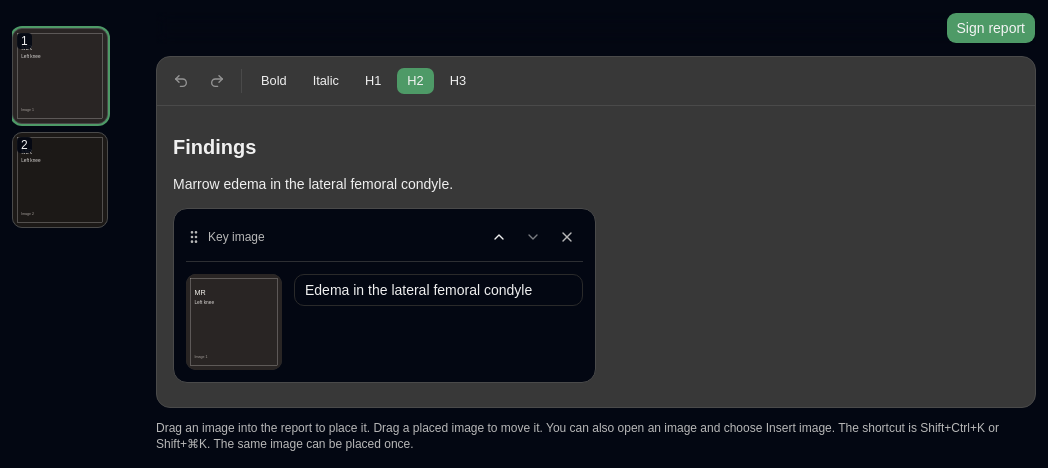
it: keeps a failed save on screen until Retry succeeds
Type " failed" into the field named "Caption". click: coordinates (438, 290)
box: [294,274,583,306]
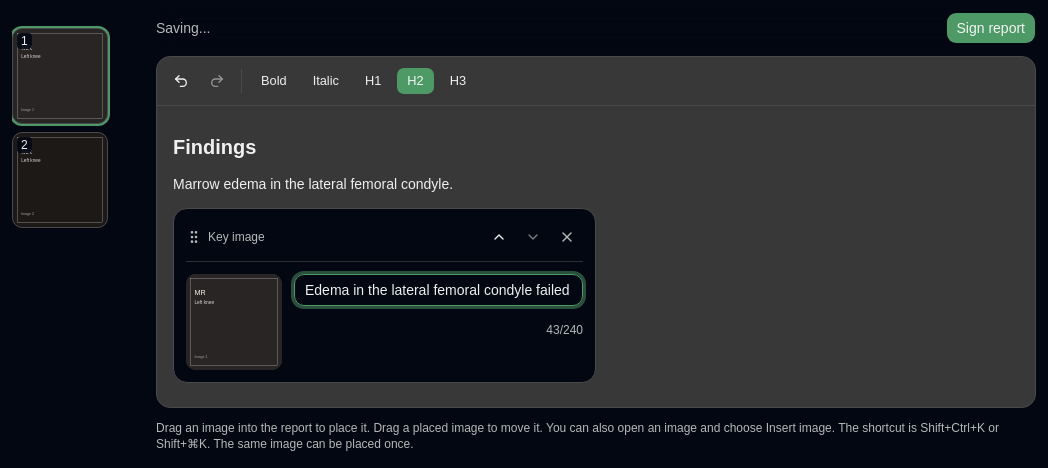
Leave the field named "Caption", box [294,274,583,306]
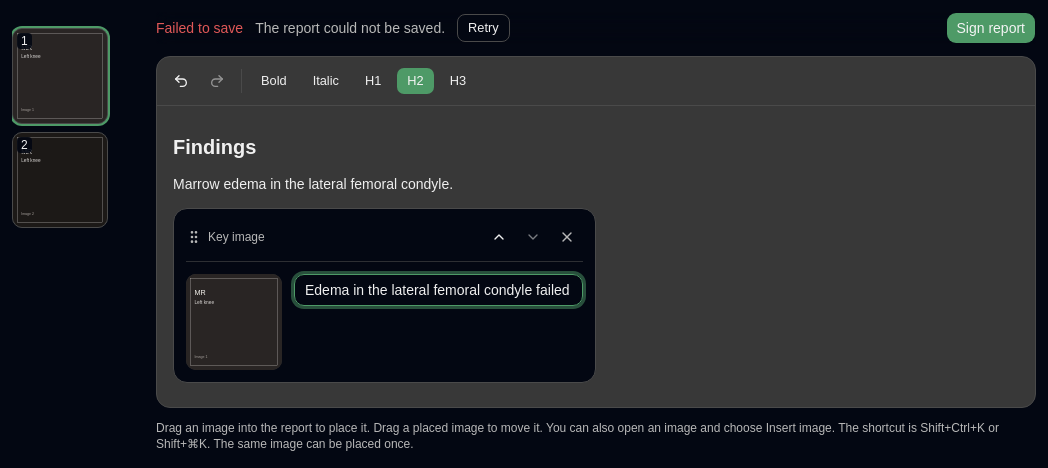
Result: the field named "Caption" holds "Edema in the lateral femoral condyle failed" at [294,274,583,306]
Result: the text "Failed to save" is shown at [156,18,243,38]
Result: the text "The report could not be saved." is shown at [255,18,445,38]
Click the button "Retry". click: coordinates (483, 28)
box: [457,14,510,42]
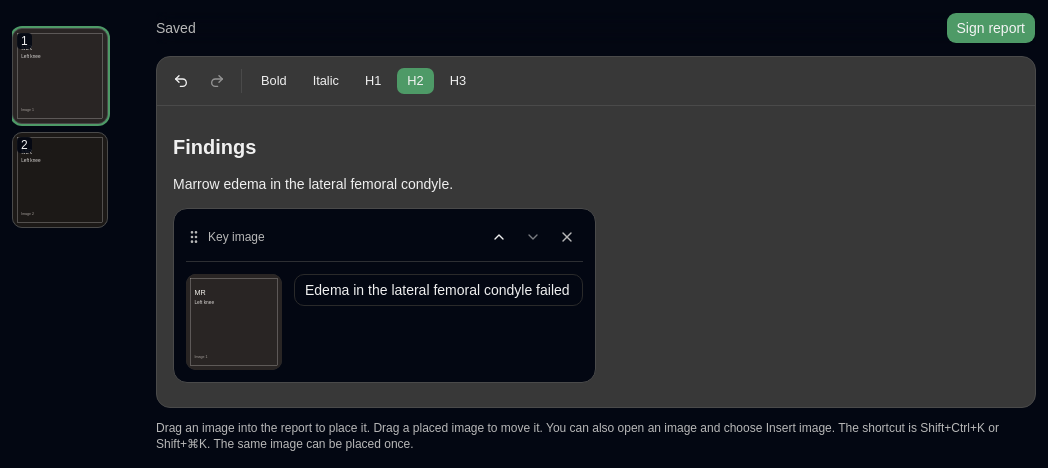
Result: the text "Saved" is shown at [156,18,196,38]
Result: the text "Failed to save" is gone
